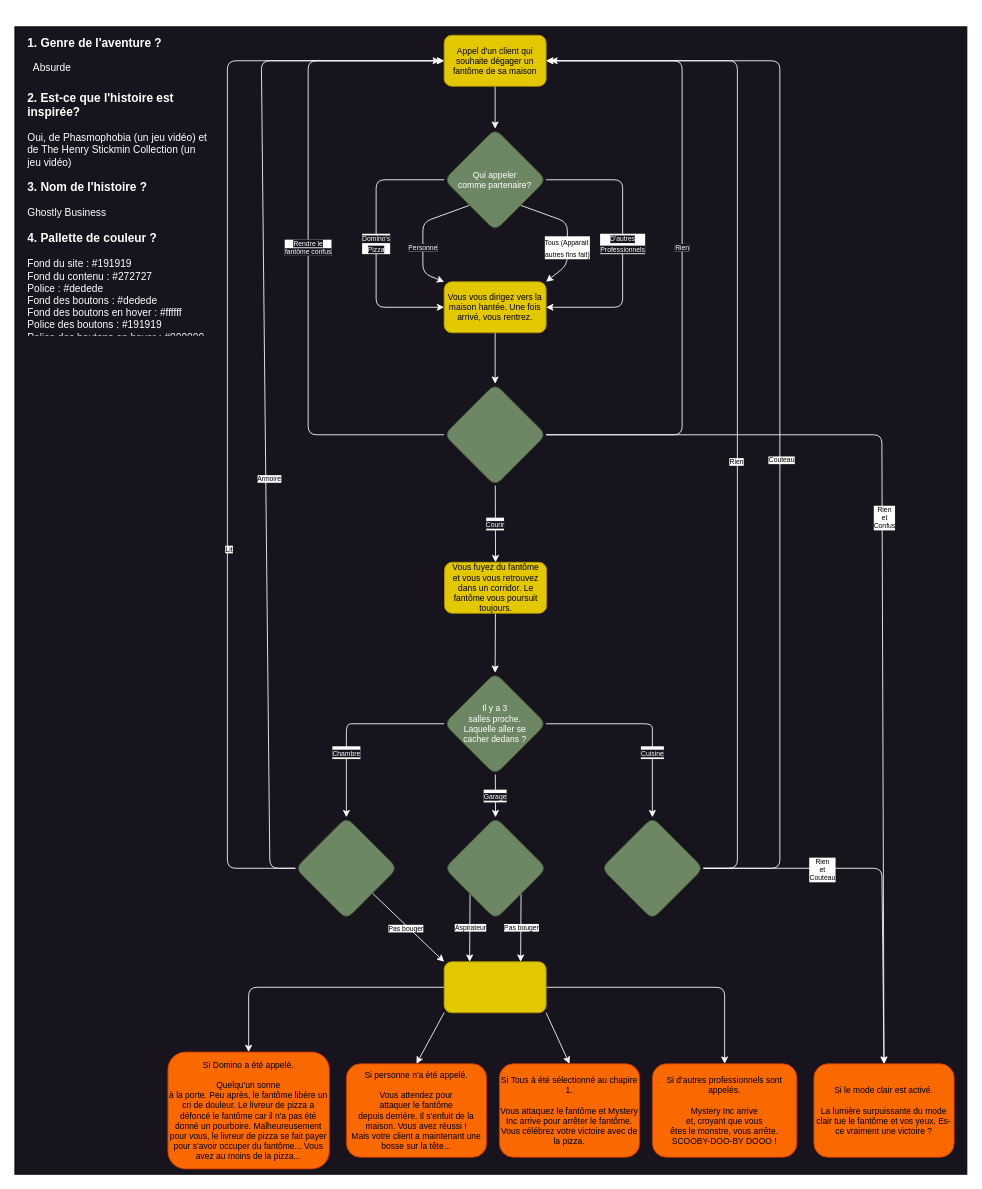
This 982x1189 diagram has some shape labels left out. The centre of each missing label's shape, as x and y in pixels:
"Où se cacher dans la chambre ?" belongs at point (346, 867).
"Où se cacher dans le garage ?" belongs at point (495, 867).
"Quoi faire dans la cuisine ?" belongs at point (652, 867).
"Vous devez vous occuper du fantôme" belongs at point (494, 987).
"Vous tombez face-à-face avec le fantôme" belongs at point (494, 434).
